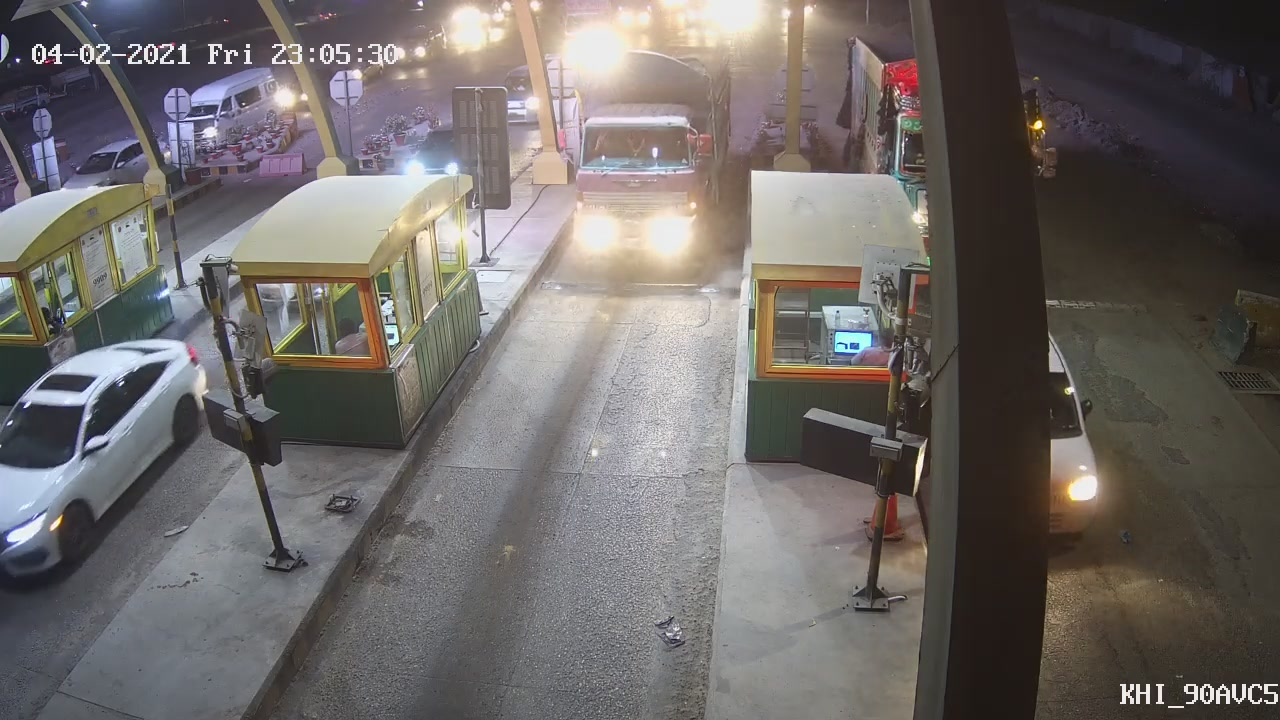F5: (560, 56, 726, 279)
